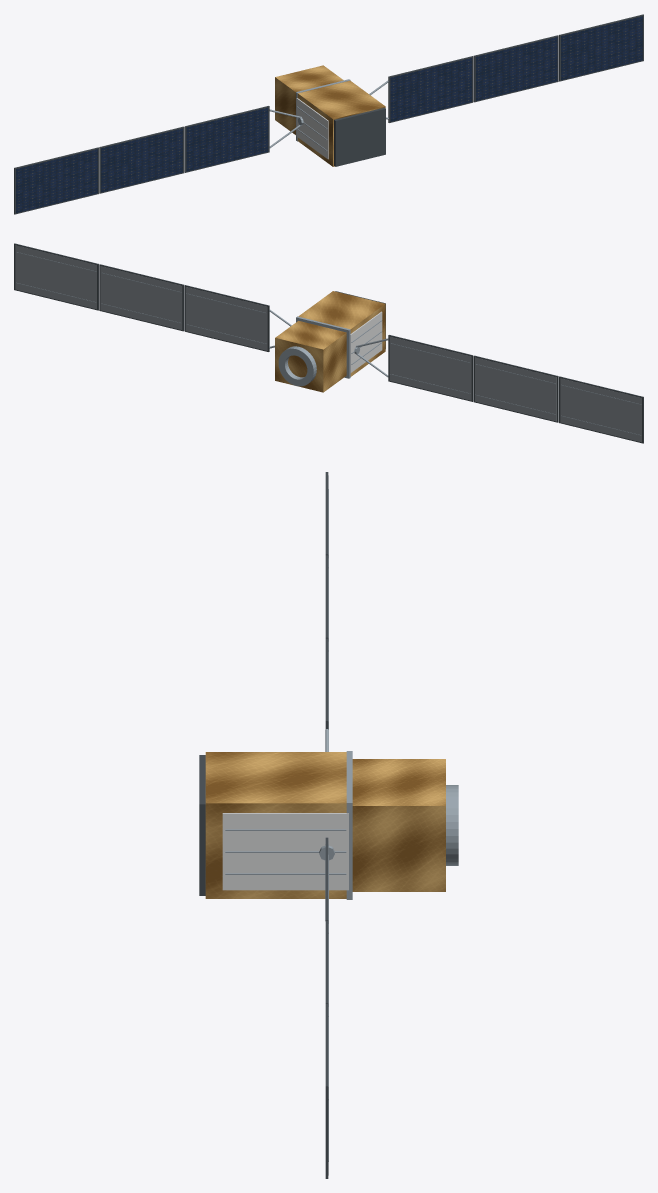
The model's file is ref-fy-4-41911.glb.
3 views of the same model, one above another, from view 1: azimuth 30°, elevation 25°; view 2: azimuth 150°, elevation 25°; view 3: azimuth 270°, elevation 25° (orthographic). The views are drawn at different scales.
Visible parts, largest first — view 1: Solar cell panel (×6), Solar panel frame (×6), Earth-facing deck, Payload module, Service module, Radiator face; view 2: Rear array substrate (×6), Service module, Solar panel frame (×6), Payload module, Radiator face, Launch adapter ring, Module interface; view 3: Service module, Payload module, Radiator face, Launch adapter ring, Earth-facing deck.
Part boxes in pixels (x1=…): Solar cell panel (×6): x1=16, y1=16, x2=642, y2=213; Solar panel frame (×6): x1=14, y1=14, x2=643, y2=214; Earth-facing deck: x1=334, y1=107, x2=385, y2=166; Payload module: x1=297, y1=80, x2=385, y2=166; Service module: x1=275, y1=65, x2=343, y2=134; Radiator face: x1=296, y1=98, x2=328, y2=159; Rear array substrate (×6): x1=15, y1=245, x2=641, y2=442; Service module: x1=275, y1=321, x2=346, y2=392; Solar panel frame (×6): x1=14, y1=243, x2=643, y2=443; Payload module: x1=298, y1=291, x2=385, y2=376; Radiator face: x1=350, y1=311, x2=382, y2=373; Launch adapter ring: x1=278, y1=346, x2=316, y2=386; Module interface: x1=296, y1=316, x2=350, y2=378; Service module: x1=352, y1=759, x2=445, y2=891; Payload module: x1=205, y1=752, x2=346, y2=898; Radiator face: x1=222, y1=813, x2=348, y2=890; Launch adapter ring: x1=446, y1=785, x2=458, y2=865; Earth-facing deck: x1=199, y1=755, x2=205, y2=895.
Bounding box in the file's own units: 29.96 × 2.2 × 5.34.
Materials: 6 (2 with a texture image).
